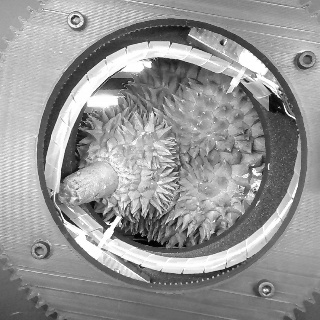base: (90, 156, 128, 193)
end: (57, 179, 82, 207)
